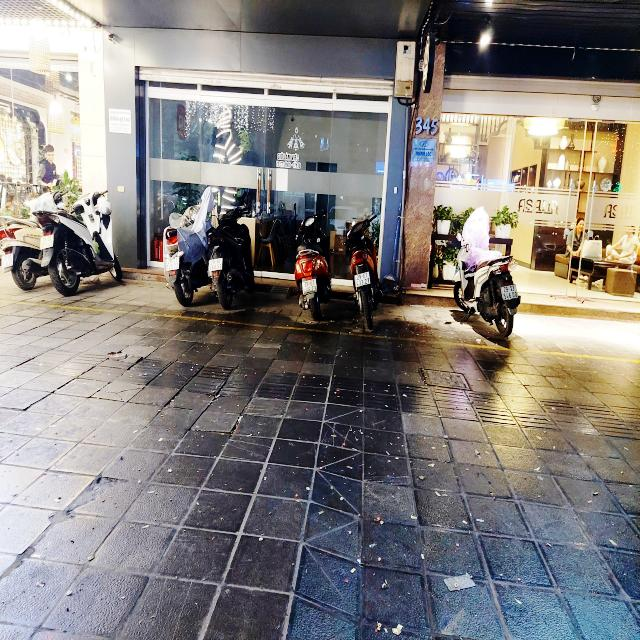license_plate: (501, 284, 521, 303), (354, 271, 372, 290), (40, 234, 55, 252), (166, 257, 181, 274), (209, 258, 224, 274)
